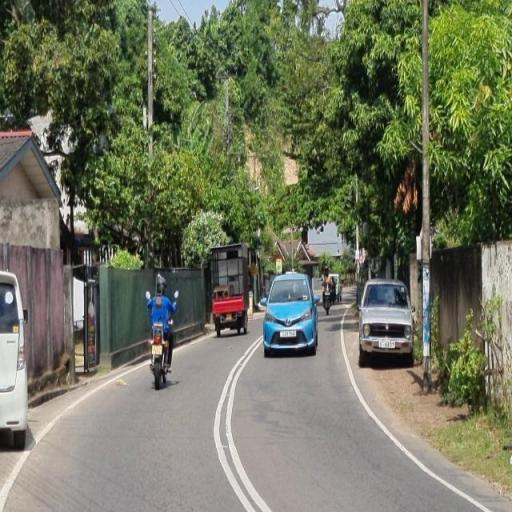double_white_line: (338, 317, 494, 510), (212, 333, 267, 512)
